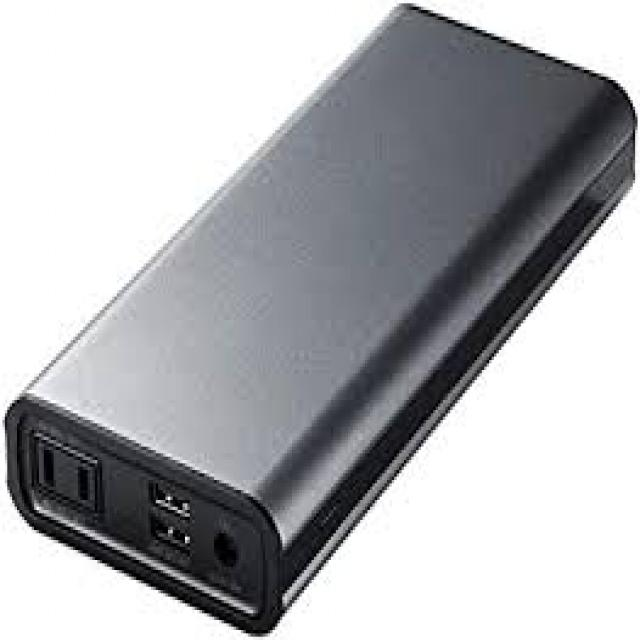hazard: (1, 0, 632, 639)
